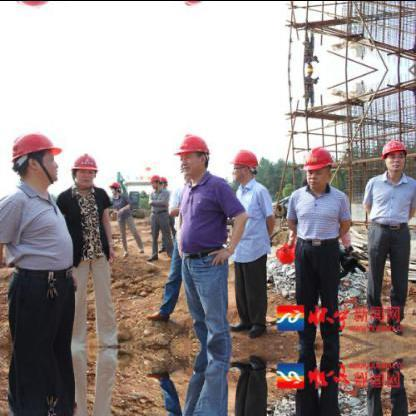Helmet: (9, 128, 60, 186), (172, 130, 212, 177), (300, 141, 336, 188), (66, 148, 98, 188), (378, 134, 406, 174), (227, 145, 257, 181), (145, 172, 162, 190), (108, 178, 121, 194), (158, 174, 166, 188)
